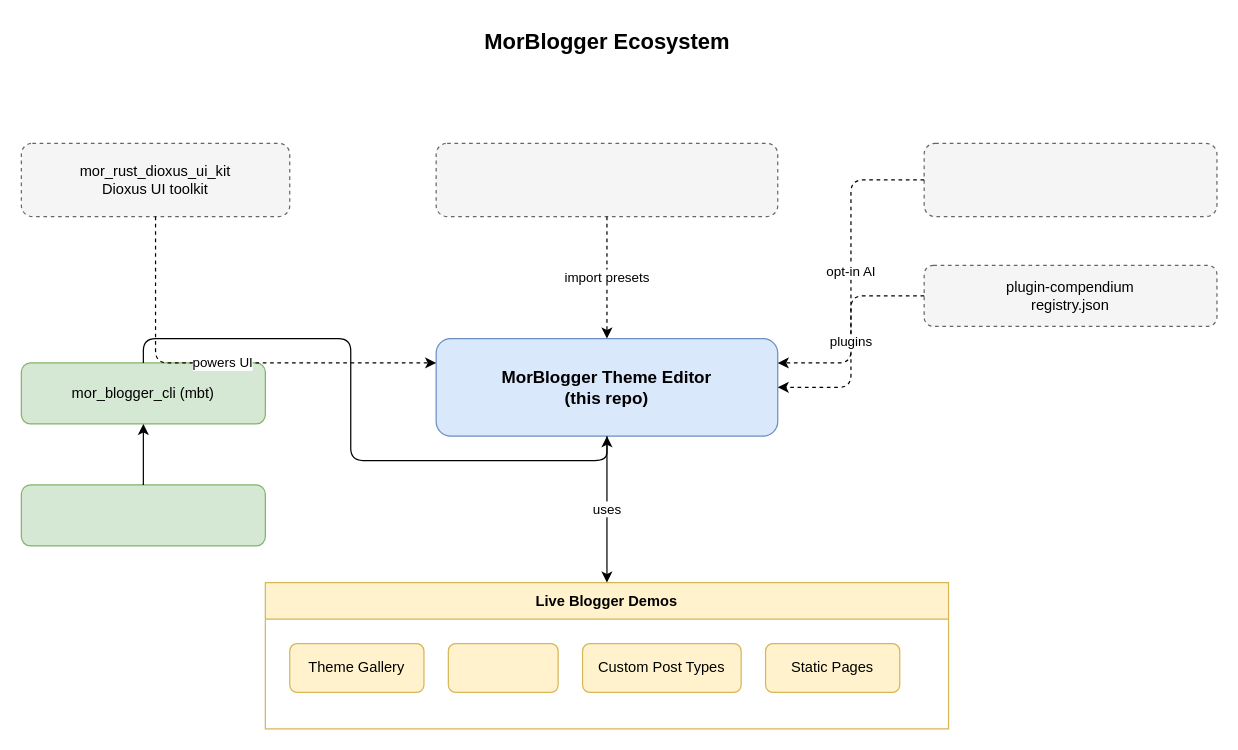
Some shapes in this 1238 by 750 pixel diagram are drawn without their labels. Each missing label, with the box of its shape:
mor-blogger-theme-editor-mcp Headless MCP engine: (923, 142, 1217, 217)
mor-blogger-theme-preset-compendium Community templates: (435, 142, 778, 217)
mor_blogger_core: (20, 484, 265, 546)
morxml: (447, 642, 558, 692)
